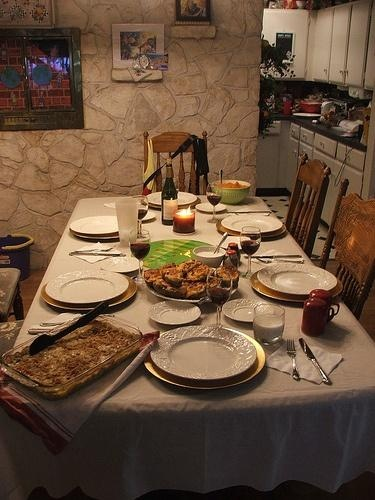bottle: (161, 158, 180, 224)
chair: (318, 182, 375, 321), (286, 155, 333, 258), (144, 132, 211, 196)
diningtable: (2, 198, 375, 500)
